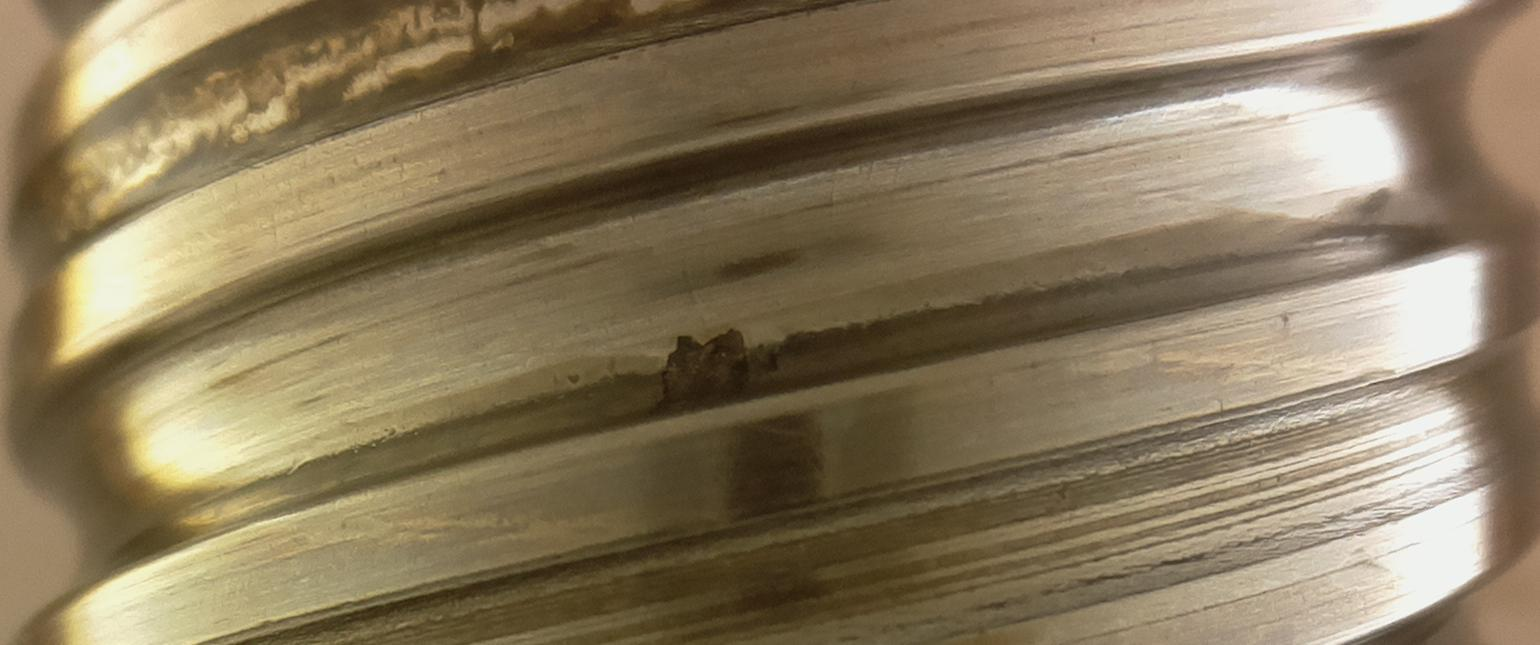pitting: (657, 328, 749, 412), (763, 346, 784, 370)
